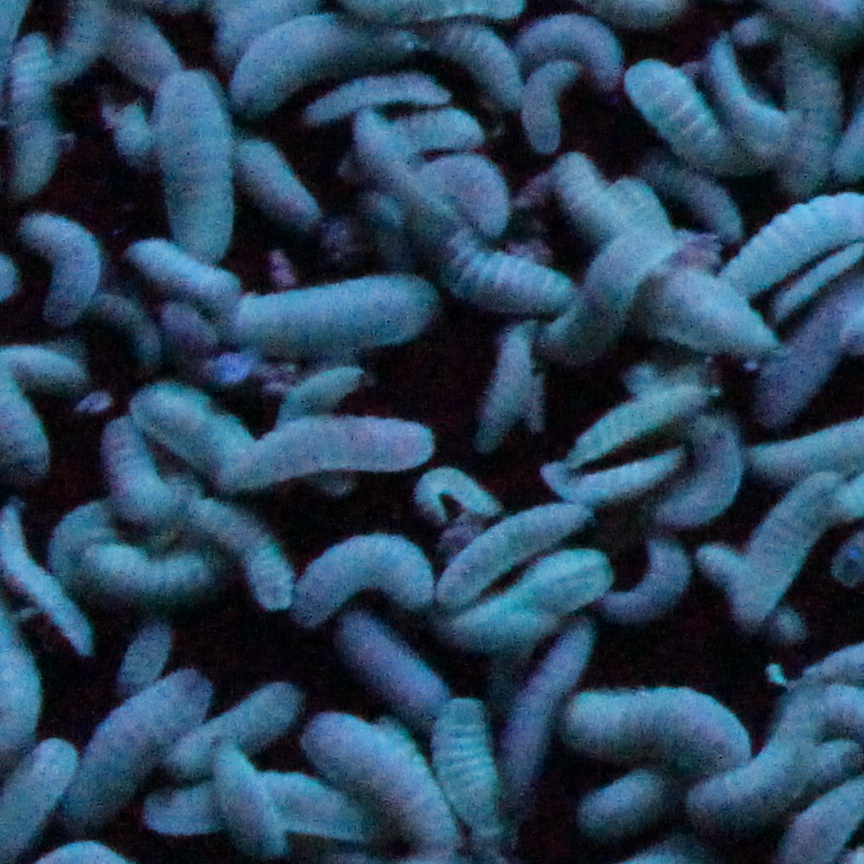larve: (304, 711, 463, 861), (63, 665, 208, 822), (232, 1, 425, 116), (682, 684, 829, 825), (563, 687, 761, 777), (730, 472, 844, 628), (541, 230, 691, 348), (239, 266, 435, 347), (222, 413, 430, 489), (156, 65, 230, 266), (627, 59, 751, 175), (437, 503, 585, 599), (189, 489, 301, 606), (334, 611, 451, 722), (292, 535, 430, 625), (163, 682, 303, 768), (566, 385, 716, 463), (441, 692, 515, 846), (360, 122, 460, 229), (439, 232, 567, 314), (776, 37, 844, 186), (208, 739, 289, 863), (515, 3, 622, 92), (99, 413, 182, 525), (304, 65, 453, 127), (227, 132, 322, 228), (23, 213, 99, 327), (658, 415, 739, 520), (476, 317, 538, 453), (15, 28, 54, 201), (608, 537, 684, 616)
